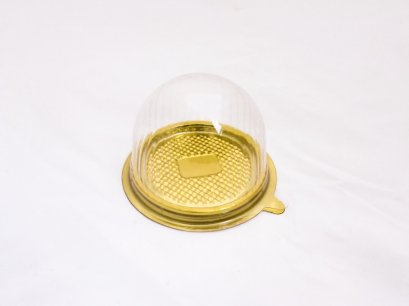PlasticBox: (119, 70, 289, 234)
